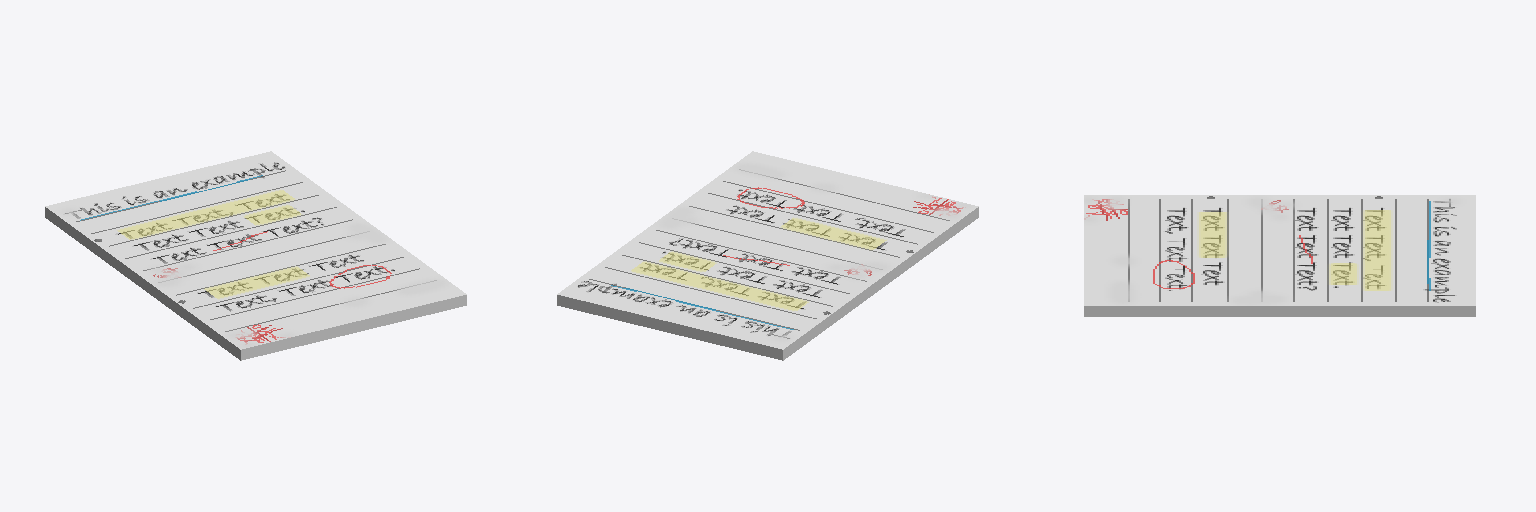
3 renders of one model, left to right at view 1: azimuth 30°, elevation 25°; view 2: azimuth 150°, elevation 25°; view 3: azimuth 270°, elevation 25°, orthographic.
Visible parts, largest first — view 1: Office_Files_D_Custom; view 2: Office_Files_D_Custom; view 3: Office_Files_D_Custom.
Boxes of the visible parts, x1,y1,x2,y2 form: Office_Files_D_Custom: [45, 151, 466, 360]; Office_Files_D_Custom: [557, 151, 978, 360]; Office_Files_D_Custom: [1084, 195, 1475, 316].
Bounding box in the file's own units: 0.2337 × 0.0109 × 0.3501.
Materials: 2 (2 with a texture image).